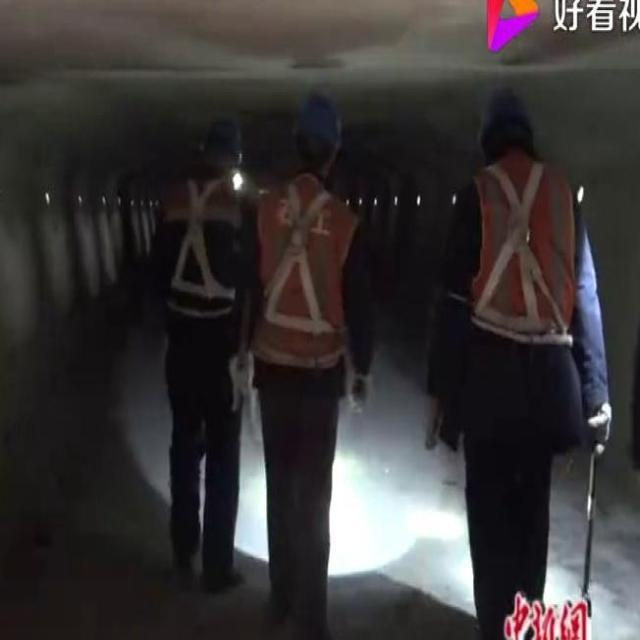Arnes_seguridad: (468, 156, 573, 343), (255, 175, 343, 344), (162, 170, 238, 315)
